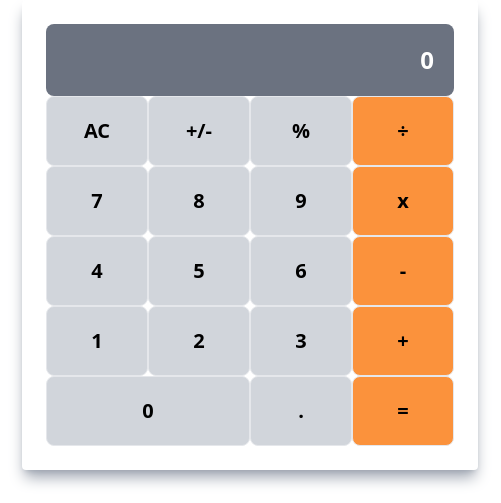
Test: Calculator › correctly performs addition
Click the button "5" at {"x": 199, "y": 271}, box [148,236,250,306]
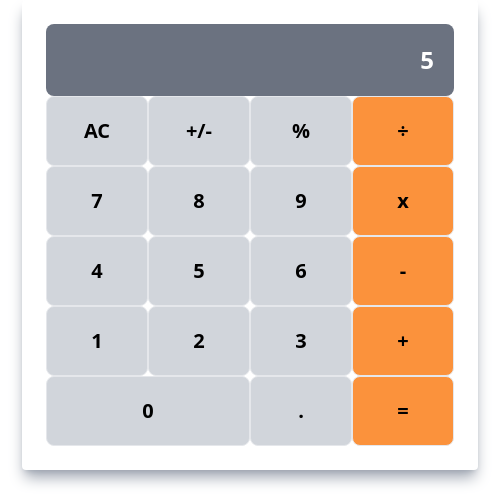
Click the button "+" at {"x": 403, "y": 341}, box [352,306,454,376]
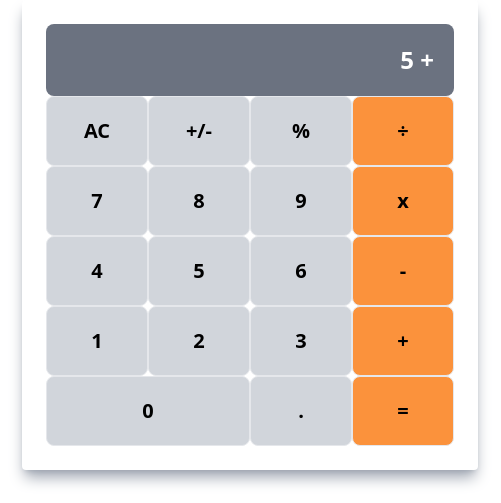
Click the button "3" at {"x": 301, "y": 341}, box [250,306,352,376]
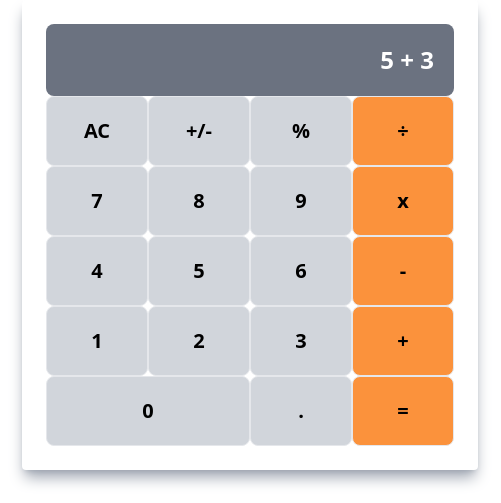
Click the button "=" at {"x": 403, "y": 411}, box [352,376,454,446]
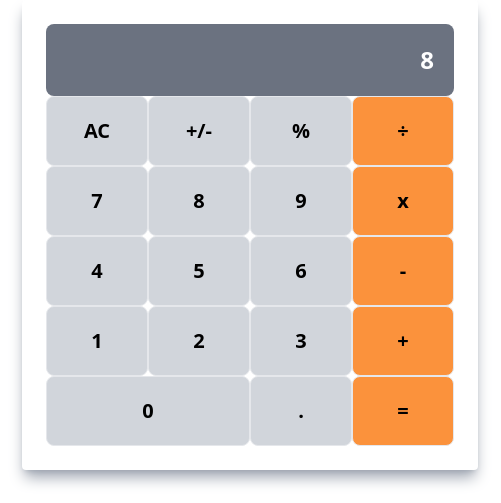
Check: the field with test id "display" holds "8", box [46,24,454,96]
